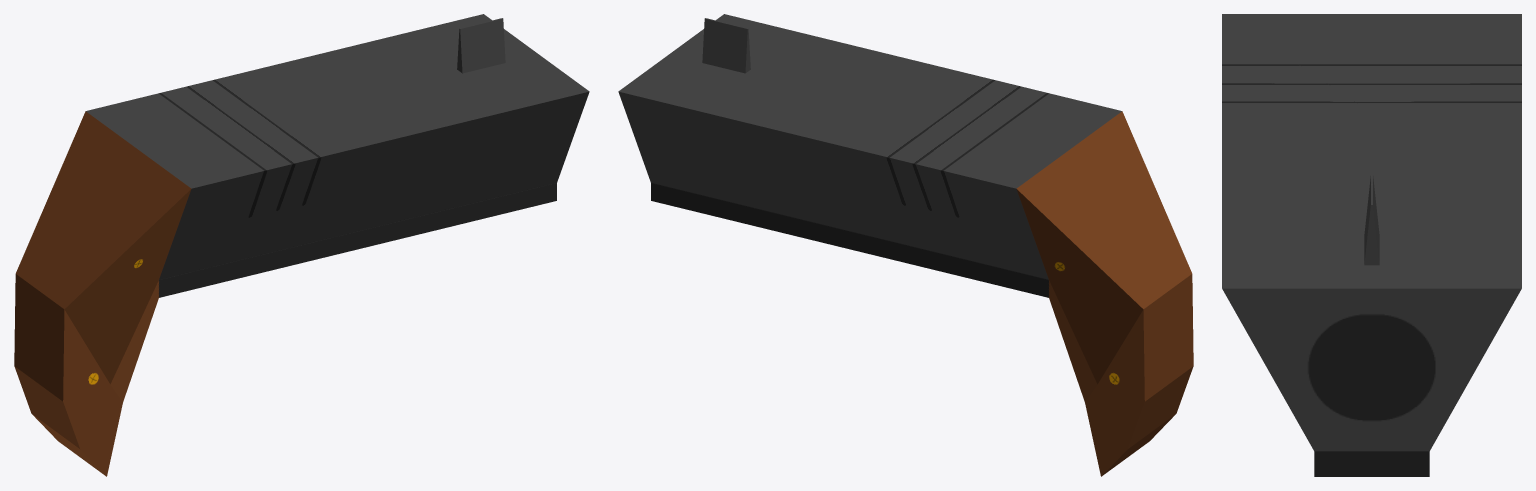
The model's file is gun.glb.
3 renders of one model, left to right at view 1: azimuth 30°, elevation 25°; view 2: azimuth 150°, elevation 25°; view 3: azimuth 270°, elevation 25°, orthographic. The views are drawn at different scales.
Parts seen in each view (by area): view 1: Gun; view 2: Gun; view 3: Gun.
Part boxes in pixels (x1=…): Gun: x1=14, y1=14, x2=589, y2=476; Gun: x1=618, y1=14, x2=1193, y2=476; Gun: x1=1222, y1=14, x2=1521, y2=476.
Size of the model in its own units: 3.63 by 2.35 by 1.34.
Materials: 1 (1 with a texture image).
